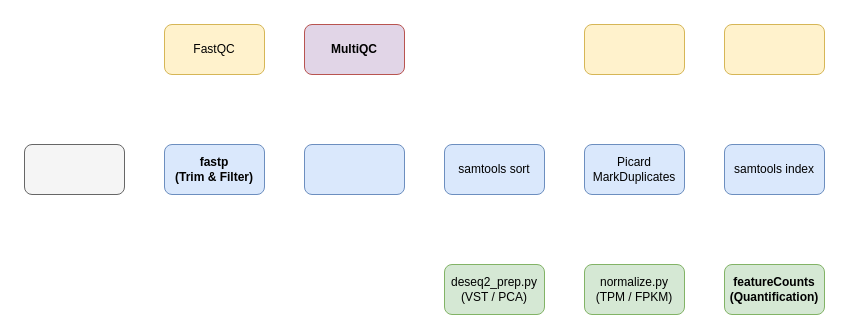
The diagram is 842 pixels wide and 332 high, and some of its shapes have lost their labels. Each missing label, with the box of its shape:
Preseq (Complexity): (584, 24, 684, 74)
Raw FASTQ: (24, 144, 124, 194)
RSeQC (Strandedness): (724, 24, 824, 74)
STAR (Alignment): (304, 144, 404, 194)
